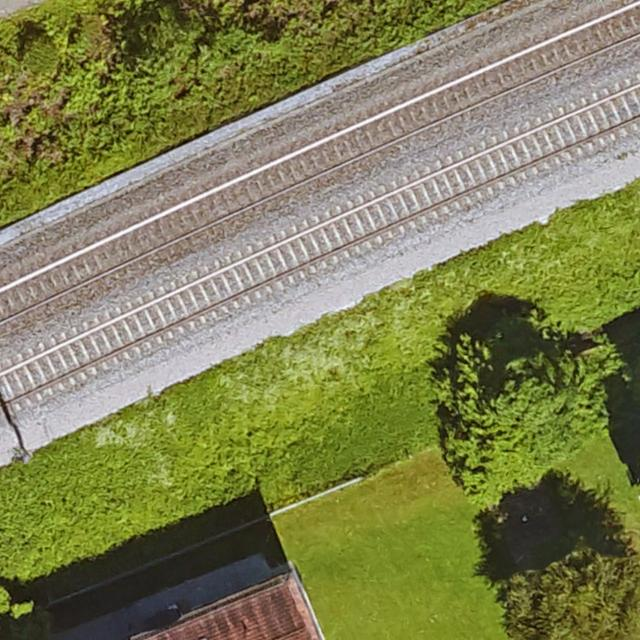tree: (445, 351, 603, 479), (512, 548, 640, 640)
